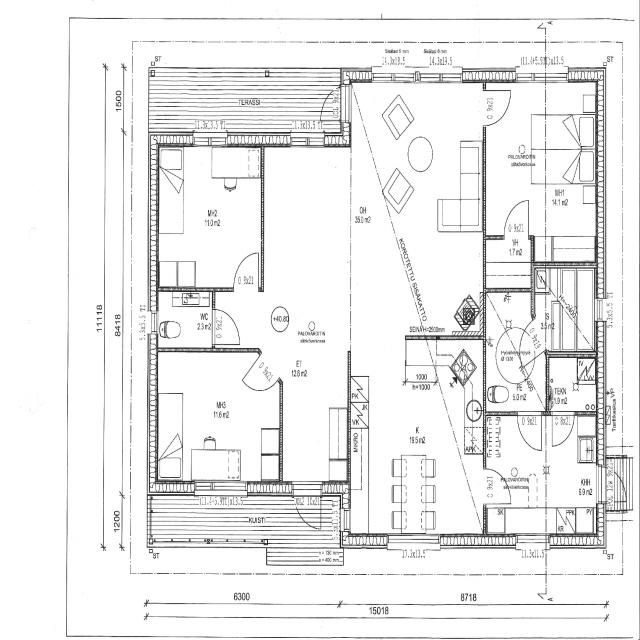door: (242, 352, 280, 404), (510, 317, 548, 367), (293, 481, 321, 535), (596, 467, 631, 502), (316, 86, 351, 120), (504, 200, 529, 240), (212, 309, 240, 344), (483, 469, 511, 504), (234, 252, 258, 291), (518, 411, 542, 450), (483, 91, 510, 125), (552, 411, 574, 446)
